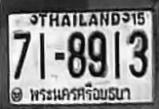1: (113, 30, 119, 78), (39, 32, 45, 78)
3: (126, 30, 148, 78)
7: (13, 31, 30, 78)
8: (67, 31, 86, 78)
9: (88, 31, 107, 78)
AYA: (28, 80, 134, 103)
